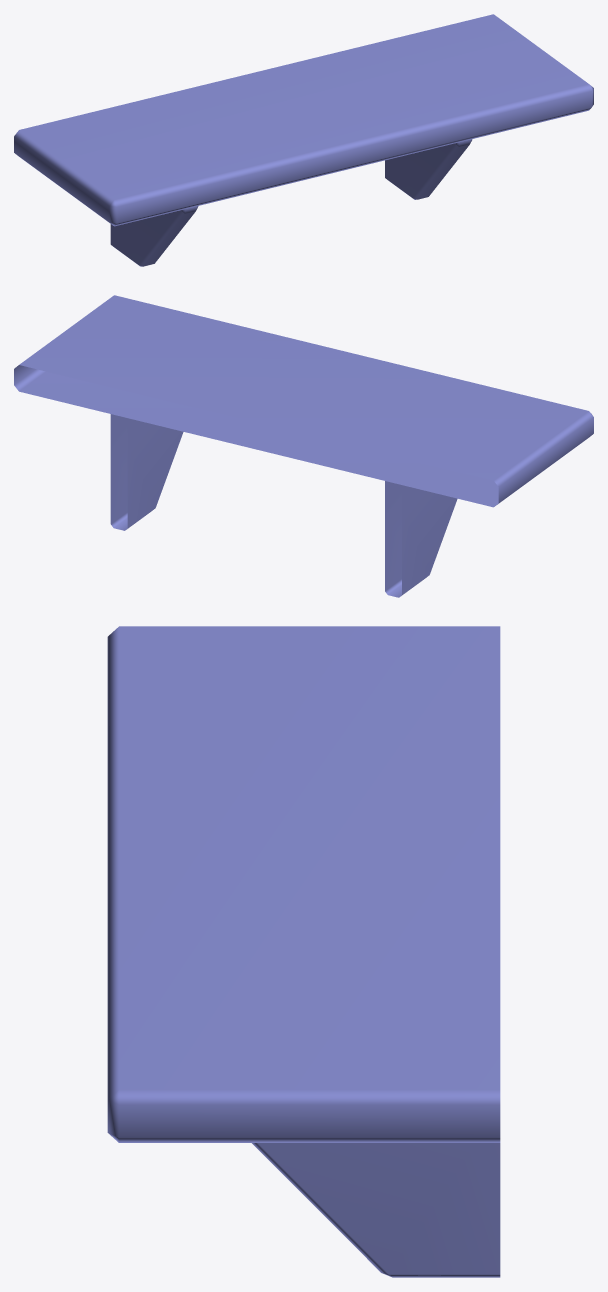
Rendered from HalloweenRoomA_ShelfA.fbx.
The picture shows the model from 3 angles, top to bottom: view 1: azimuth 30°, elevation 25°; view 2: azimuth 150°, elevation 25°; view 3: azimuth 270°, elevation 25°; orthographic projection. The views are drawn at different scales.
Parts seen in each view (by area): view 1: HalloweenRoomA_ShelfA; view 2: HalloweenRoomA_ShelfA; view 3: HalloweenRoomA_ShelfA.
Boxes of the visible parts, x1=… form: HalloweenRoomA_ShelfA: x1=14, y1=14, x2=593, y2=266; HalloweenRoomA_ShelfA: x1=14, y1=295, x2=593, y2=597; HalloweenRoomA_ShelfA: x1=107, y1=626, x2=500, y2=1277.
Bounding box in the file's own units: 85.48 × 23.63 × 30.
